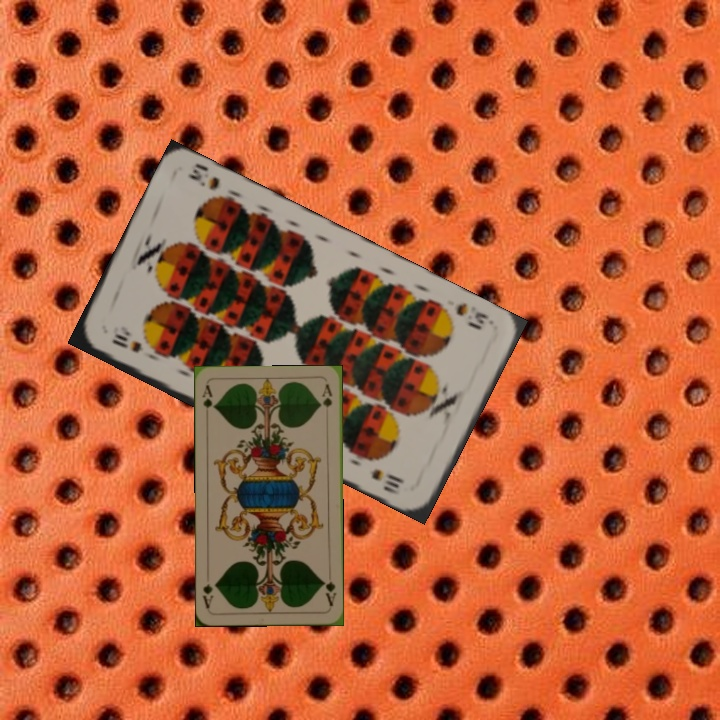GA: (319, 569, 339, 609), (198, 381, 217, 421)
S10: (452, 298, 491, 333), (108, 329, 146, 355)
